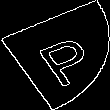P_NW: (17, 24, 93, 86)
